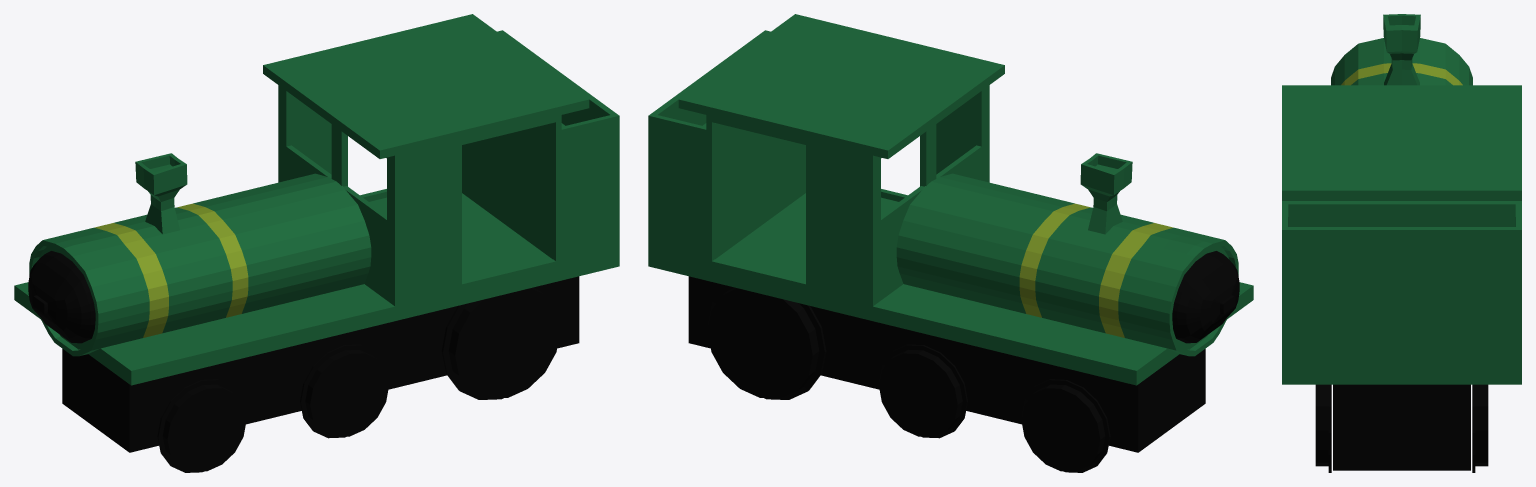
File: spojovlacek_train.glb
3 views of the same model, side by side, from view 1: azimuth 30°, elevation 25°; view 2: azimuth 150°, elevation 25°; view 3: azimuth 270°, elevation 25° (orthographic). The views are drawn at different scales.
Visible parts, largest first — view 1: Train1.Final; view 2: Train1.Final; view 3: Train1.Final.
Part boxes in pixels (left/top/right/bottom): Train1.Final: left=14, top=14, right=619, bottom=472; Train1.Final: left=648, top=14, right=1253, bottom=472; Train1.Final: left=1282, top=14, right=1521, bottom=472.
Bounding box in the file's own units: 3.72 × 2.04 × 1.44.
1 material, 1 textured.
